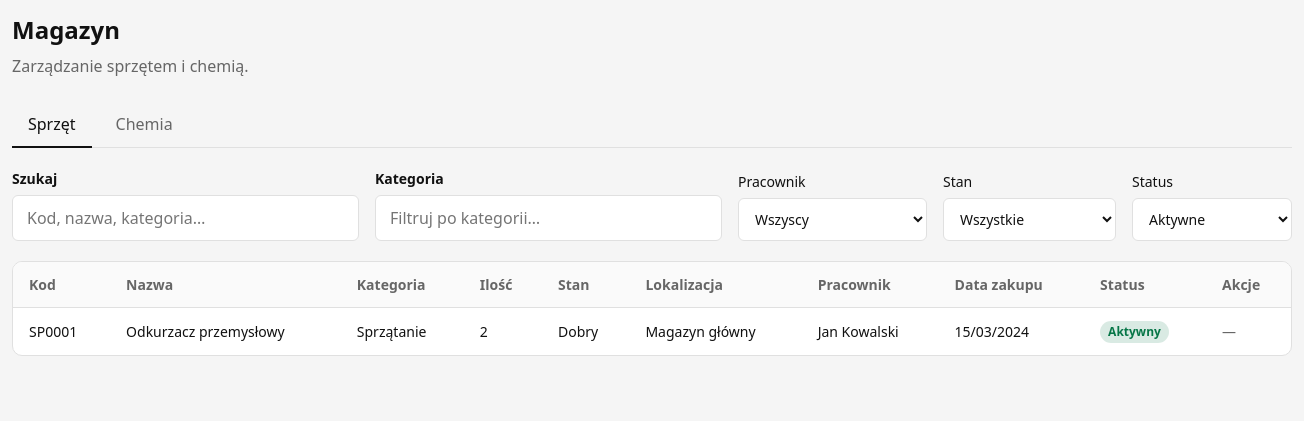
Test case: InventoryPage › switches to chemicals tab and shows low stock warning
The width and height of the screenshot is (1304, 421).
Expected: the text "Odkurzacz przemysłowy" is shown, [110,308,341,355]
Click the tab "Chemia": (144, 125) [100,102,189,148]
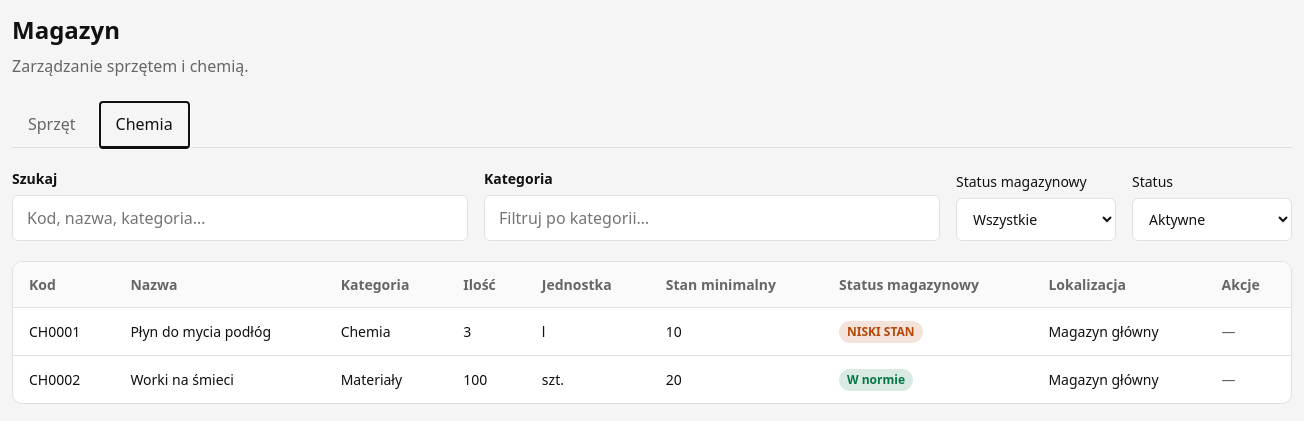
Now the text "Płyn do mycia podłóg" is shown, box [114,308,325,356]
Now the text "NISKI STAN" is shown, box [839,321,923,343]
Now the text "l" is shown, box [526,308,650,356]
